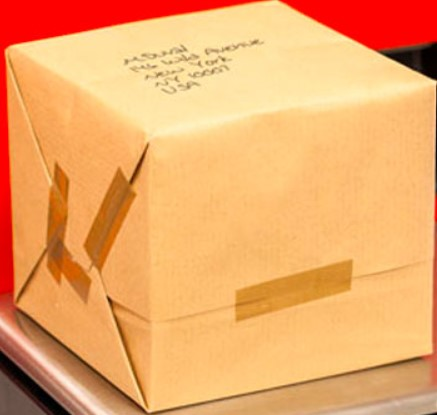stock: (7, 3, 437, 412)
